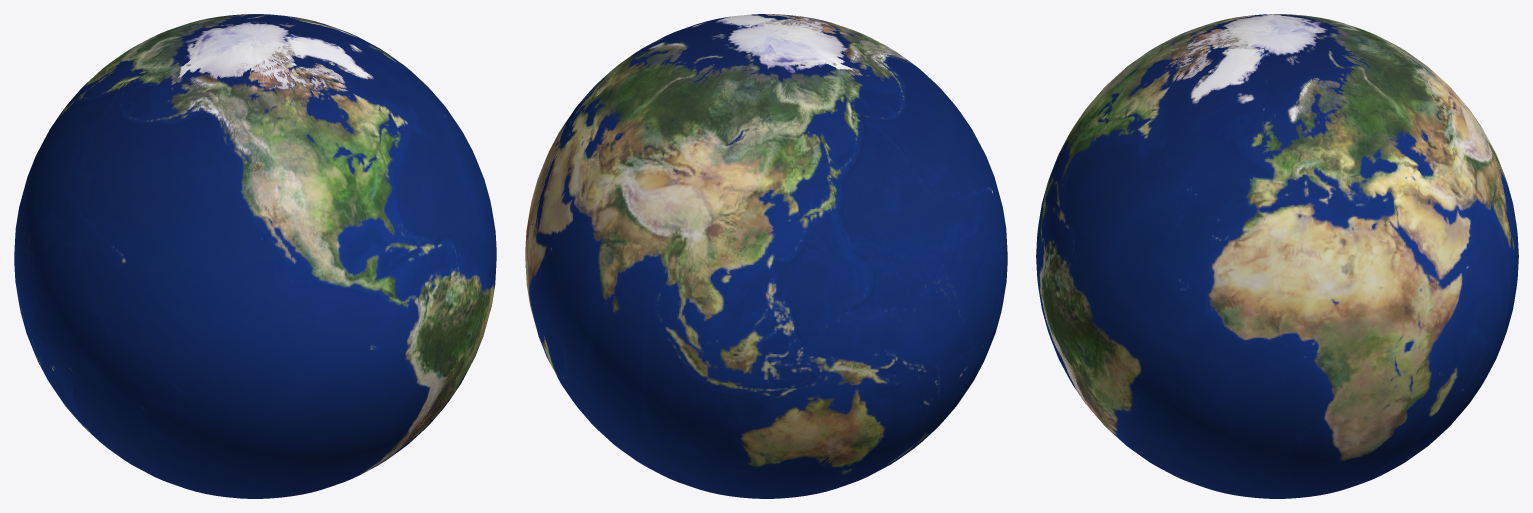
Rendered from earth.glb.
3 views of the same model, side by side, from view 1: azimuth 30°, elevation 25°; view 2: azimuth 150°, elevation 25°; view 3: azimuth 270°, elevation 25° (orthographic).
Parts seen in each view (by area): view 1: Sphere; view 2: Sphere; view 3: Sphere.
Part boxes in pixels (x1,y1,x2,y2): Sphere: [14, 14, 496, 498]; Sphere: [525, 14, 1007, 498]; Sphere: [1036, 14, 1518, 498].
Size of the model in its own units: 1.97 by 2 by 1.97.
1 material, 1 textured.
